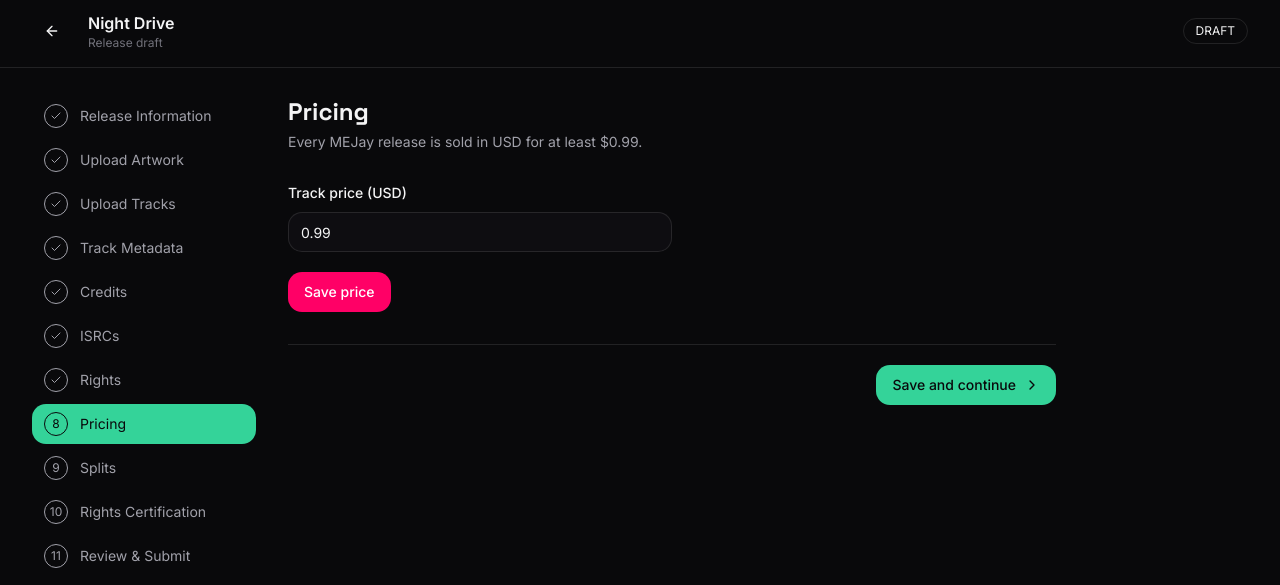
release wizard: Save and continue saves what is on screen › refuses to continue past a price below the minimum
Replace the text in the number field with "0.50" at (480, 232), box [288,212,672,252]
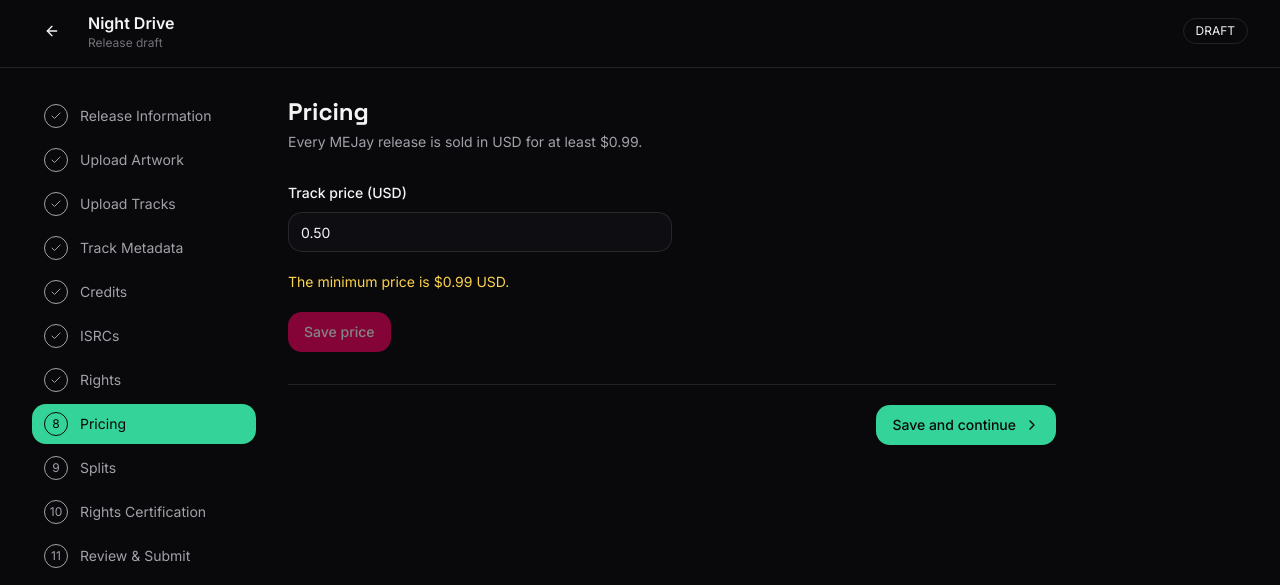
Click the button "Save and continue" at (966, 425), box [876,405,1056,445]
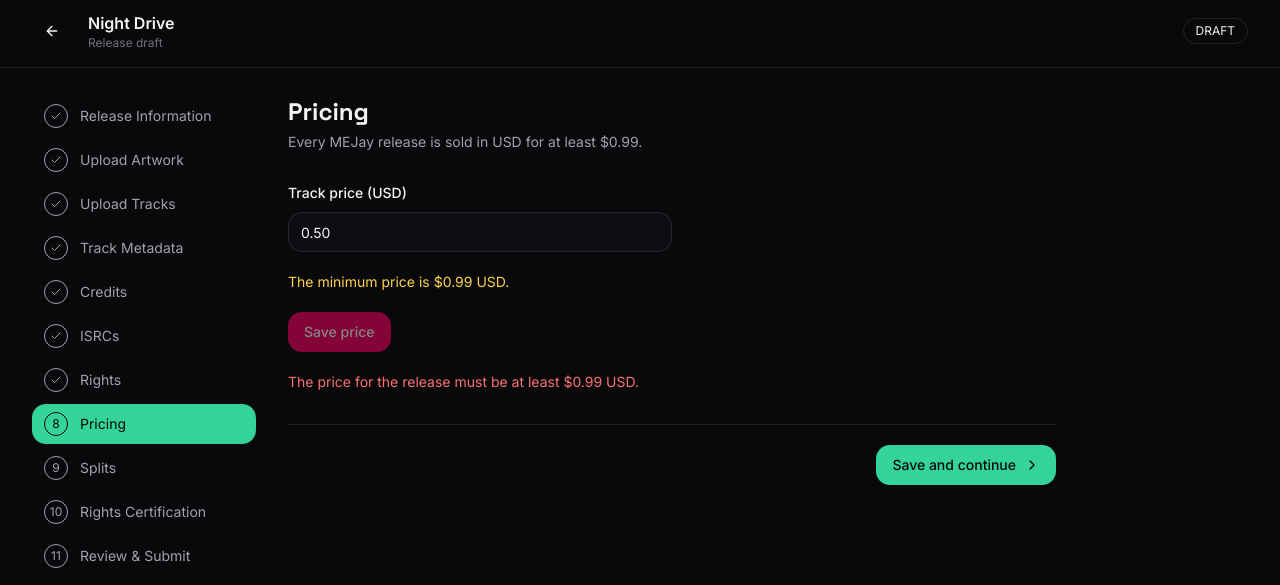
Expected: the text "The price for the release must be at least $0.99 USD." is shown, [288,373,639,390]
